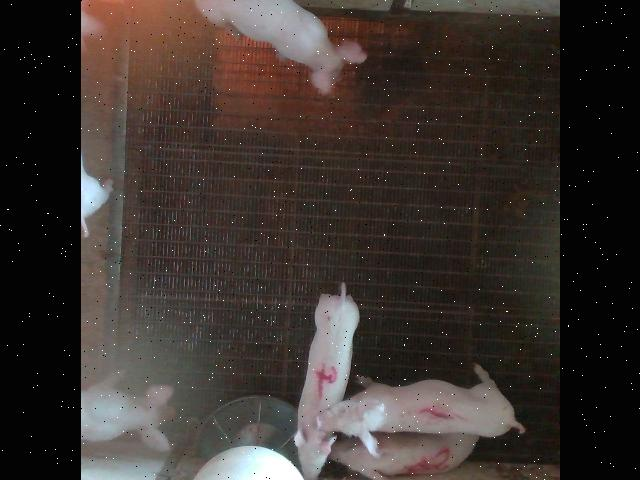pig-1: (316, 365, 524, 456)
pig-4: (294, 285, 359, 480)
pig-5: (328, 432, 478, 480)
